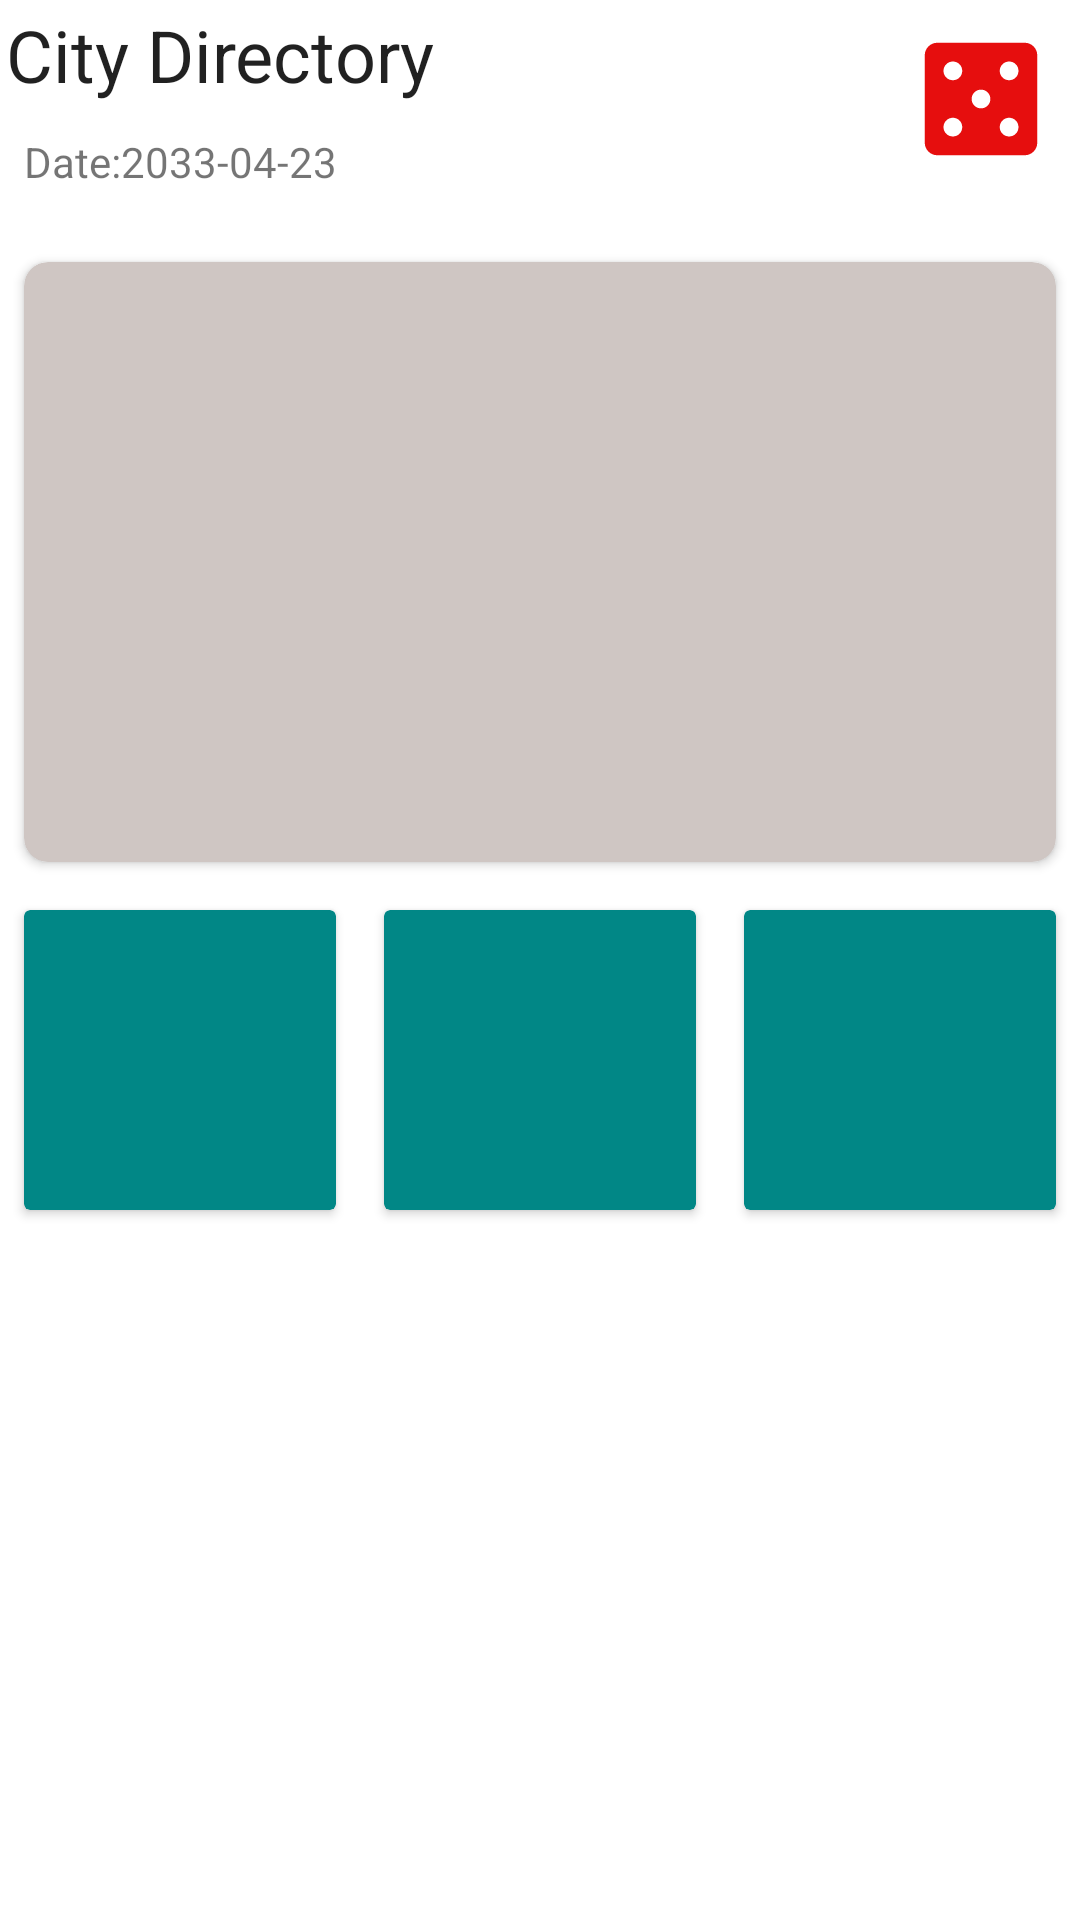

Screen size 1080*1920. Icon name, then its box in pixels as detection(x1, y1, x2, y2):
casino: detection(924, 42, 1038, 156)
